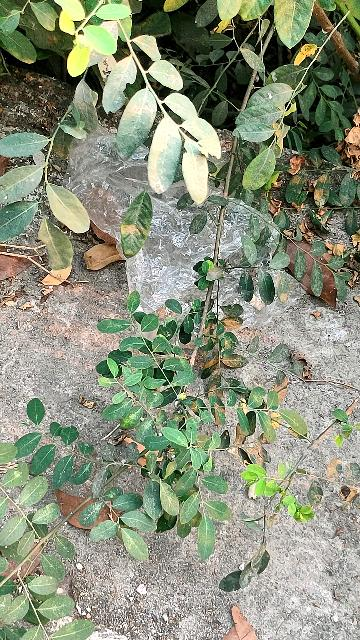polythene: (7, 114, 291, 361)
